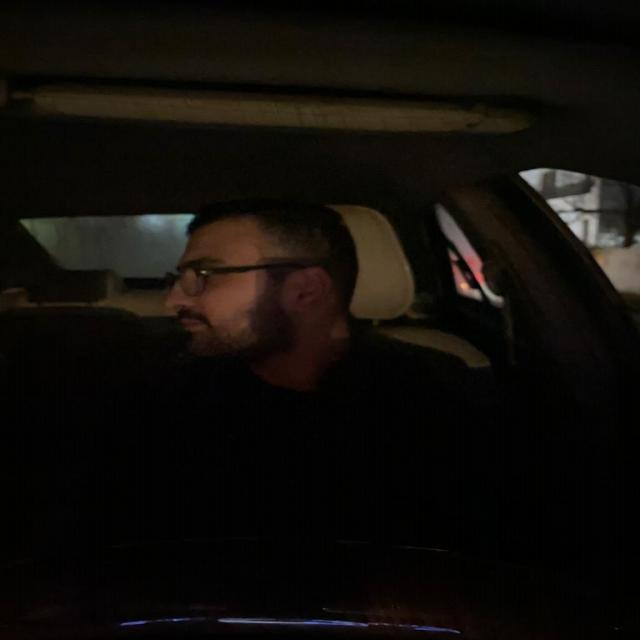LeftRight: (150, 185, 369, 388)
